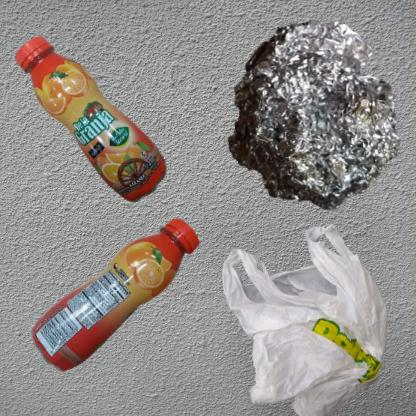aluminio: (213, 10, 411, 226)
bolsa: (213, 213, 416, 416)
botella: (10, 10, 221, 290), (10, 213, 278, 414)
